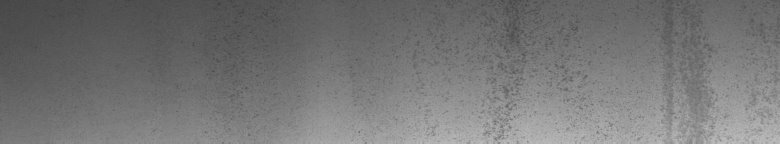ib: (484, 20, 617, 128)
